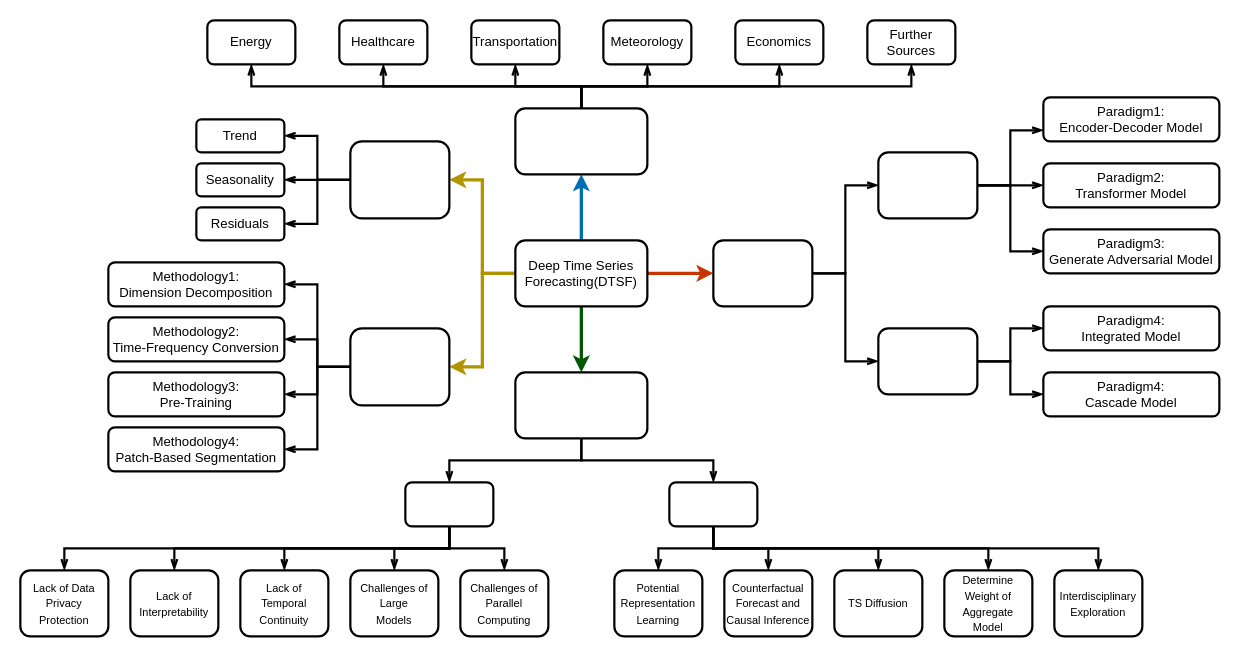
Some shapes in this 1239 by 656 pixel diagram are drawn without their labels. Each missing label, with the box of its shape:
Challenges: (404, 481, 494, 527)
Challenges and Prospects: (514, 371, 648, 439)
Components of a Time Series: (349, 140, 450, 219)
Datasets in Primary Domains: (514, 107, 648, 175)
Feature Extraction Methodology: (349, 327, 450, 406)
Model Architecture Paradigm: (712, 239, 813, 307)
Model with Explicit Structure: (877, 151, 978, 219)
Model without Explicit Structure: (877, 327, 978, 395)
Prospects: (668, 481, 758, 527)
